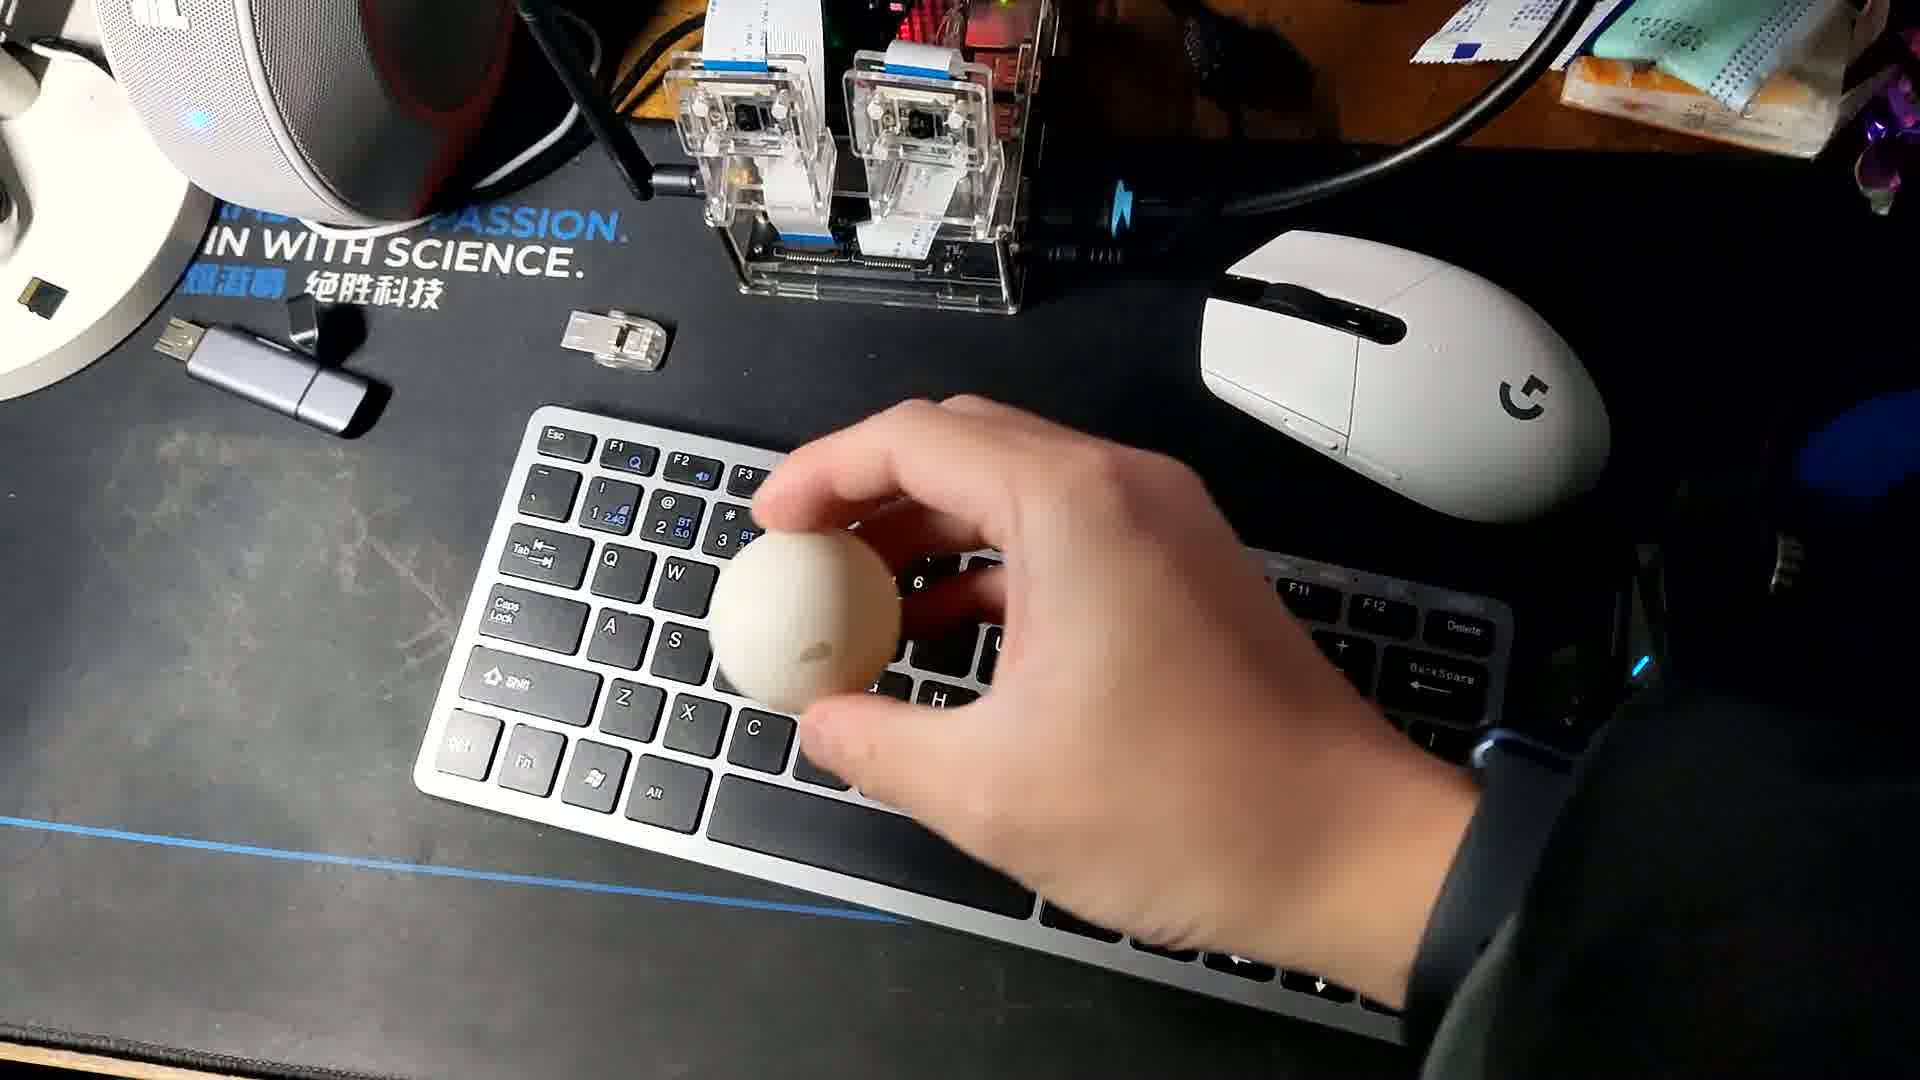Ball: (715, 529, 903, 696)
